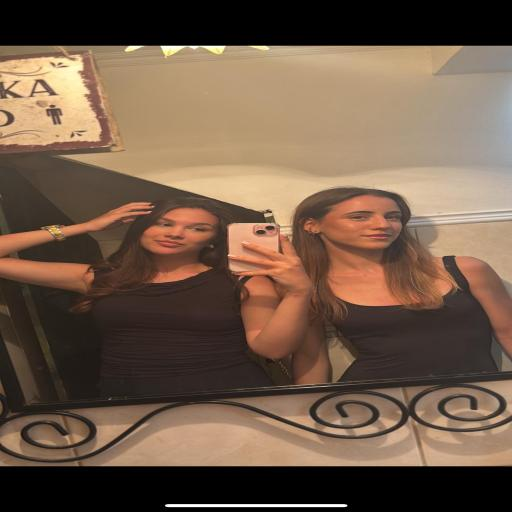masa: (326, 198, 408, 252)
